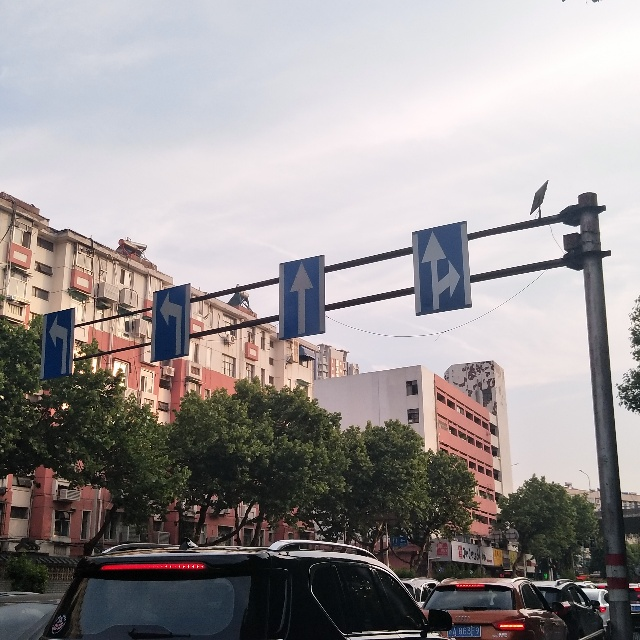left: (151, 285, 184, 351), (43, 307, 74, 376)
straight: (283, 263, 322, 336)
